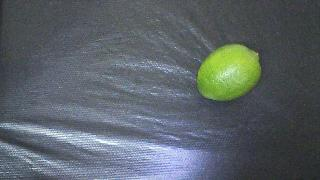LOCAL: (197, 44, 261, 101)
